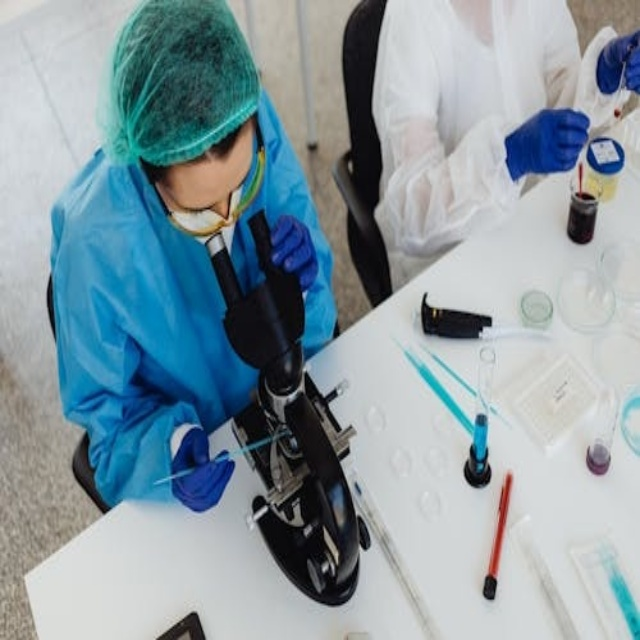Gafas: (159, 119, 266, 238)
Guantes: (161, 409, 241, 523), (504, 90, 591, 188), (261, 209, 324, 292), (594, 13, 640, 104)
